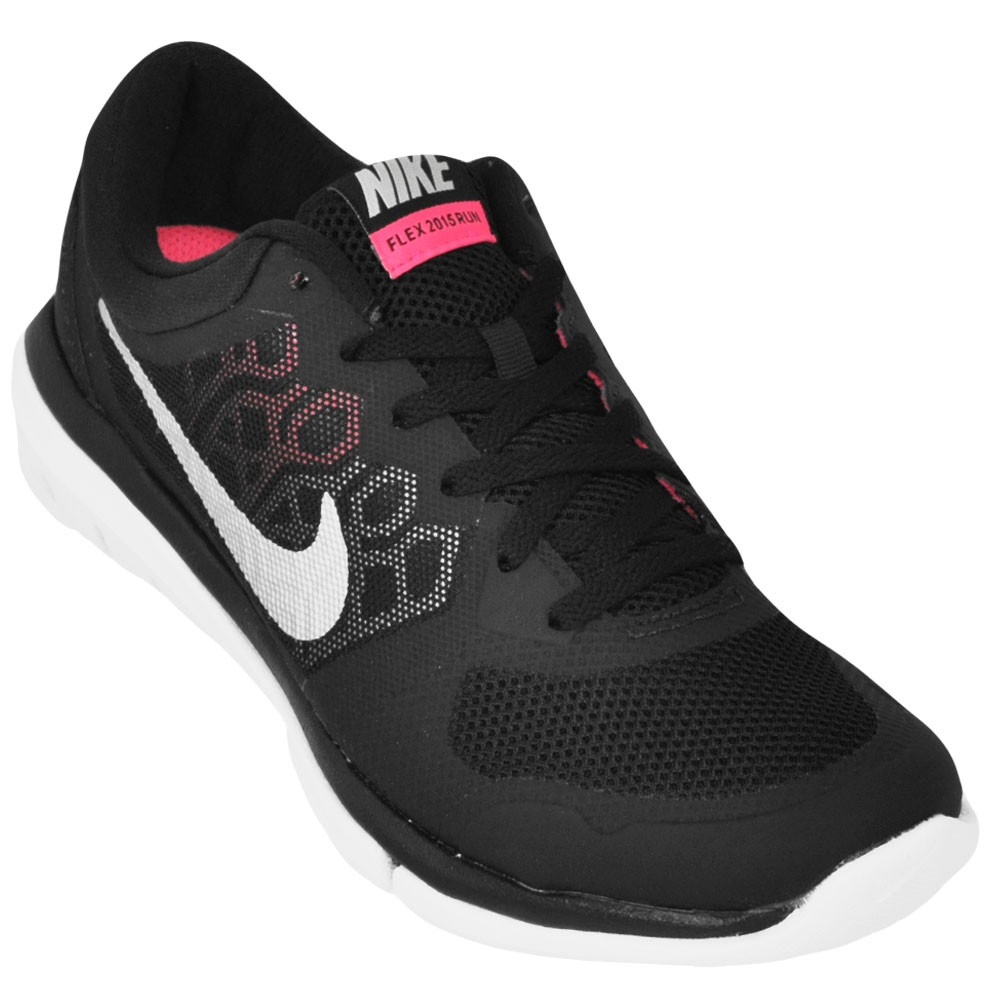Nike: (87, 294, 353, 646), (348, 149, 461, 219)
